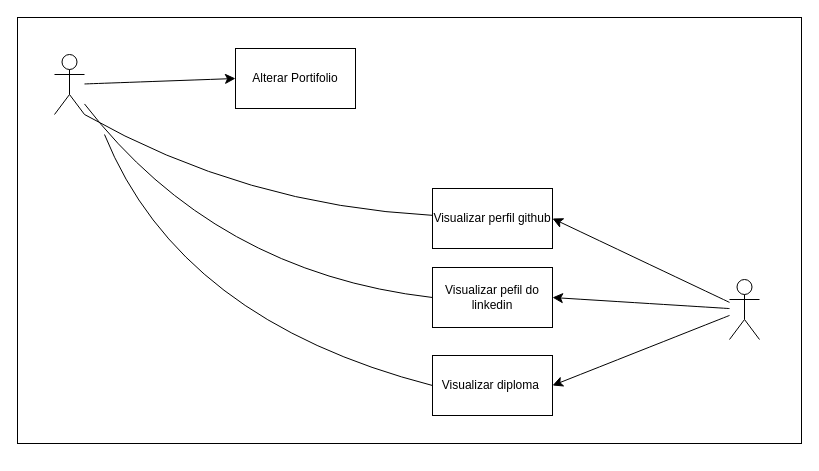
The diagram is 819 pixels wide and 471 high, and some of its shapes have lost their labels. Here are the shapes that lost their labels. From the top down, the box of each, then its label:
(54, 54, 84, 114): Desenvolvedor
(728, 278, 760, 340): Usuário
